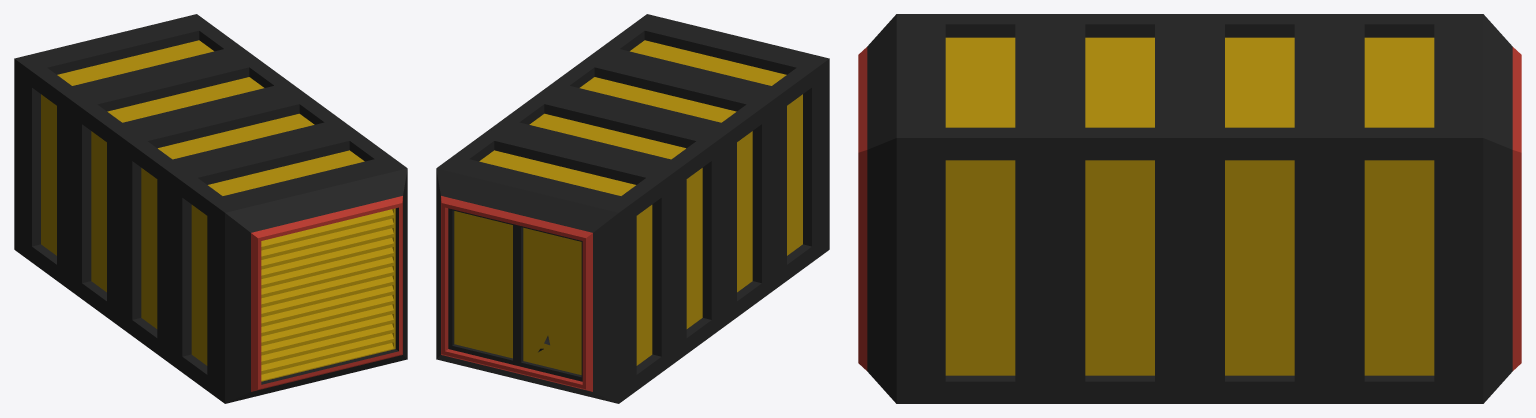
Rendered from Container1.fbx.
3 renders of one model, left to right at view 1: azimuth 30°, elevation 25°; view 2: azimuth 150°, elevation 25°; view 3: azimuth 270°, elevation 25°, orthographic. The views are drawn at different scales.
Parts seen in each view (by area): view 1: MainStruct, Griglia, Incassi, CorniceGriglia; view 2: MainStruct, Incassi, PannelliPorte, CornicePorte, TelaioPorte; view 3: MainStruct, Incassi, CorniceGriglia, CornicePorte.
Boxes of the visible parts, left/top/right/bottom form: MainStruct: left=14, top=14, right=407, bottom=403; Griglia: left=261, top=208, right=395, bottom=381; Incassi: left=41, top=40, right=364, bottom=365; CorniceGriglia: left=251, top=196, right=402, bottom=391; MainStruct: left=436, top=14, right=829, bottom=403; Incassi: left=479, top=40, right=802, bottom=365; PannelliPorte: left=454, top=211, right=581, bottom=374; CornicePorte: left=441, top=196, right=592, bottom=391; TelaioPorte: left=448, top=208, right=582, bottom=381; MainStruct: left=867, top=14, right=1512, bottom=403; Incassi: left=945, top=37, right=1434, bottom=375; CorniceGriglia: left=858, top=47, right=867, bottom=370; CornicePorte: left=1512, top=47, right=1521, bottom=370.
Bounding box in the file's own units: 200 × 200 × 452.
